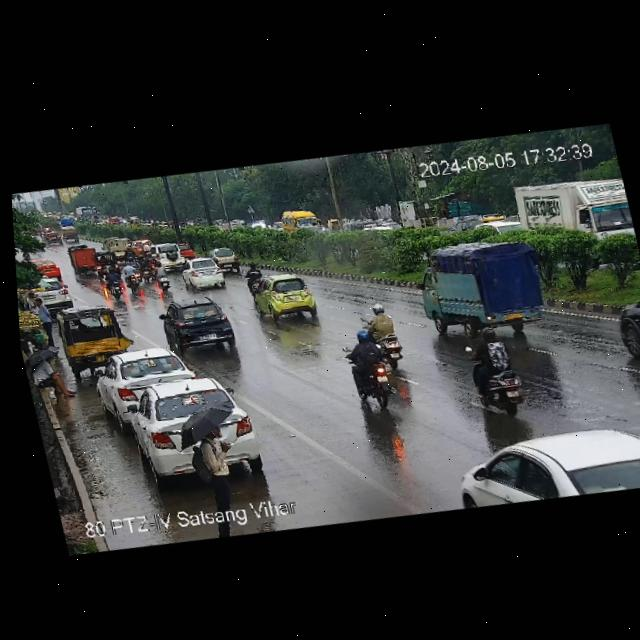bus: (274, 203, 328, 236)
car: (443, 402, 640, 520), (111, 368, 251, 487), (90, 340, 196, 418), (53, 299, 134, 374), (157, 289, 241, 359), (251, 267, 323, 325), (604, 288, 640, 364), (178, 255, 231, 296), (149, 240, 185, 270), (68, 245, 99, 277), (208, 243, 242, 272), (104, 233, 136, 262), (89, 247, 117, 276), (56, 215, 80, 241), (178, 239, 197, 258)
motorcycle: (338, 317, 418, 413), (459, 319, 532, 416), (242, 259, 267, 295), (97, 265, 125, 297), (122, 258, 142, 293), (152, 259, 171, 291), (136, 251, 154, 280), (143, 250, 157, 276), (125, 246, 138, 265)
person: (188, 416, 242, 511), (27, 349, 80, 405), (17, 289, 61, 348)
truck: (399, 224, 557, 351), (512, 167, 637, 256)
